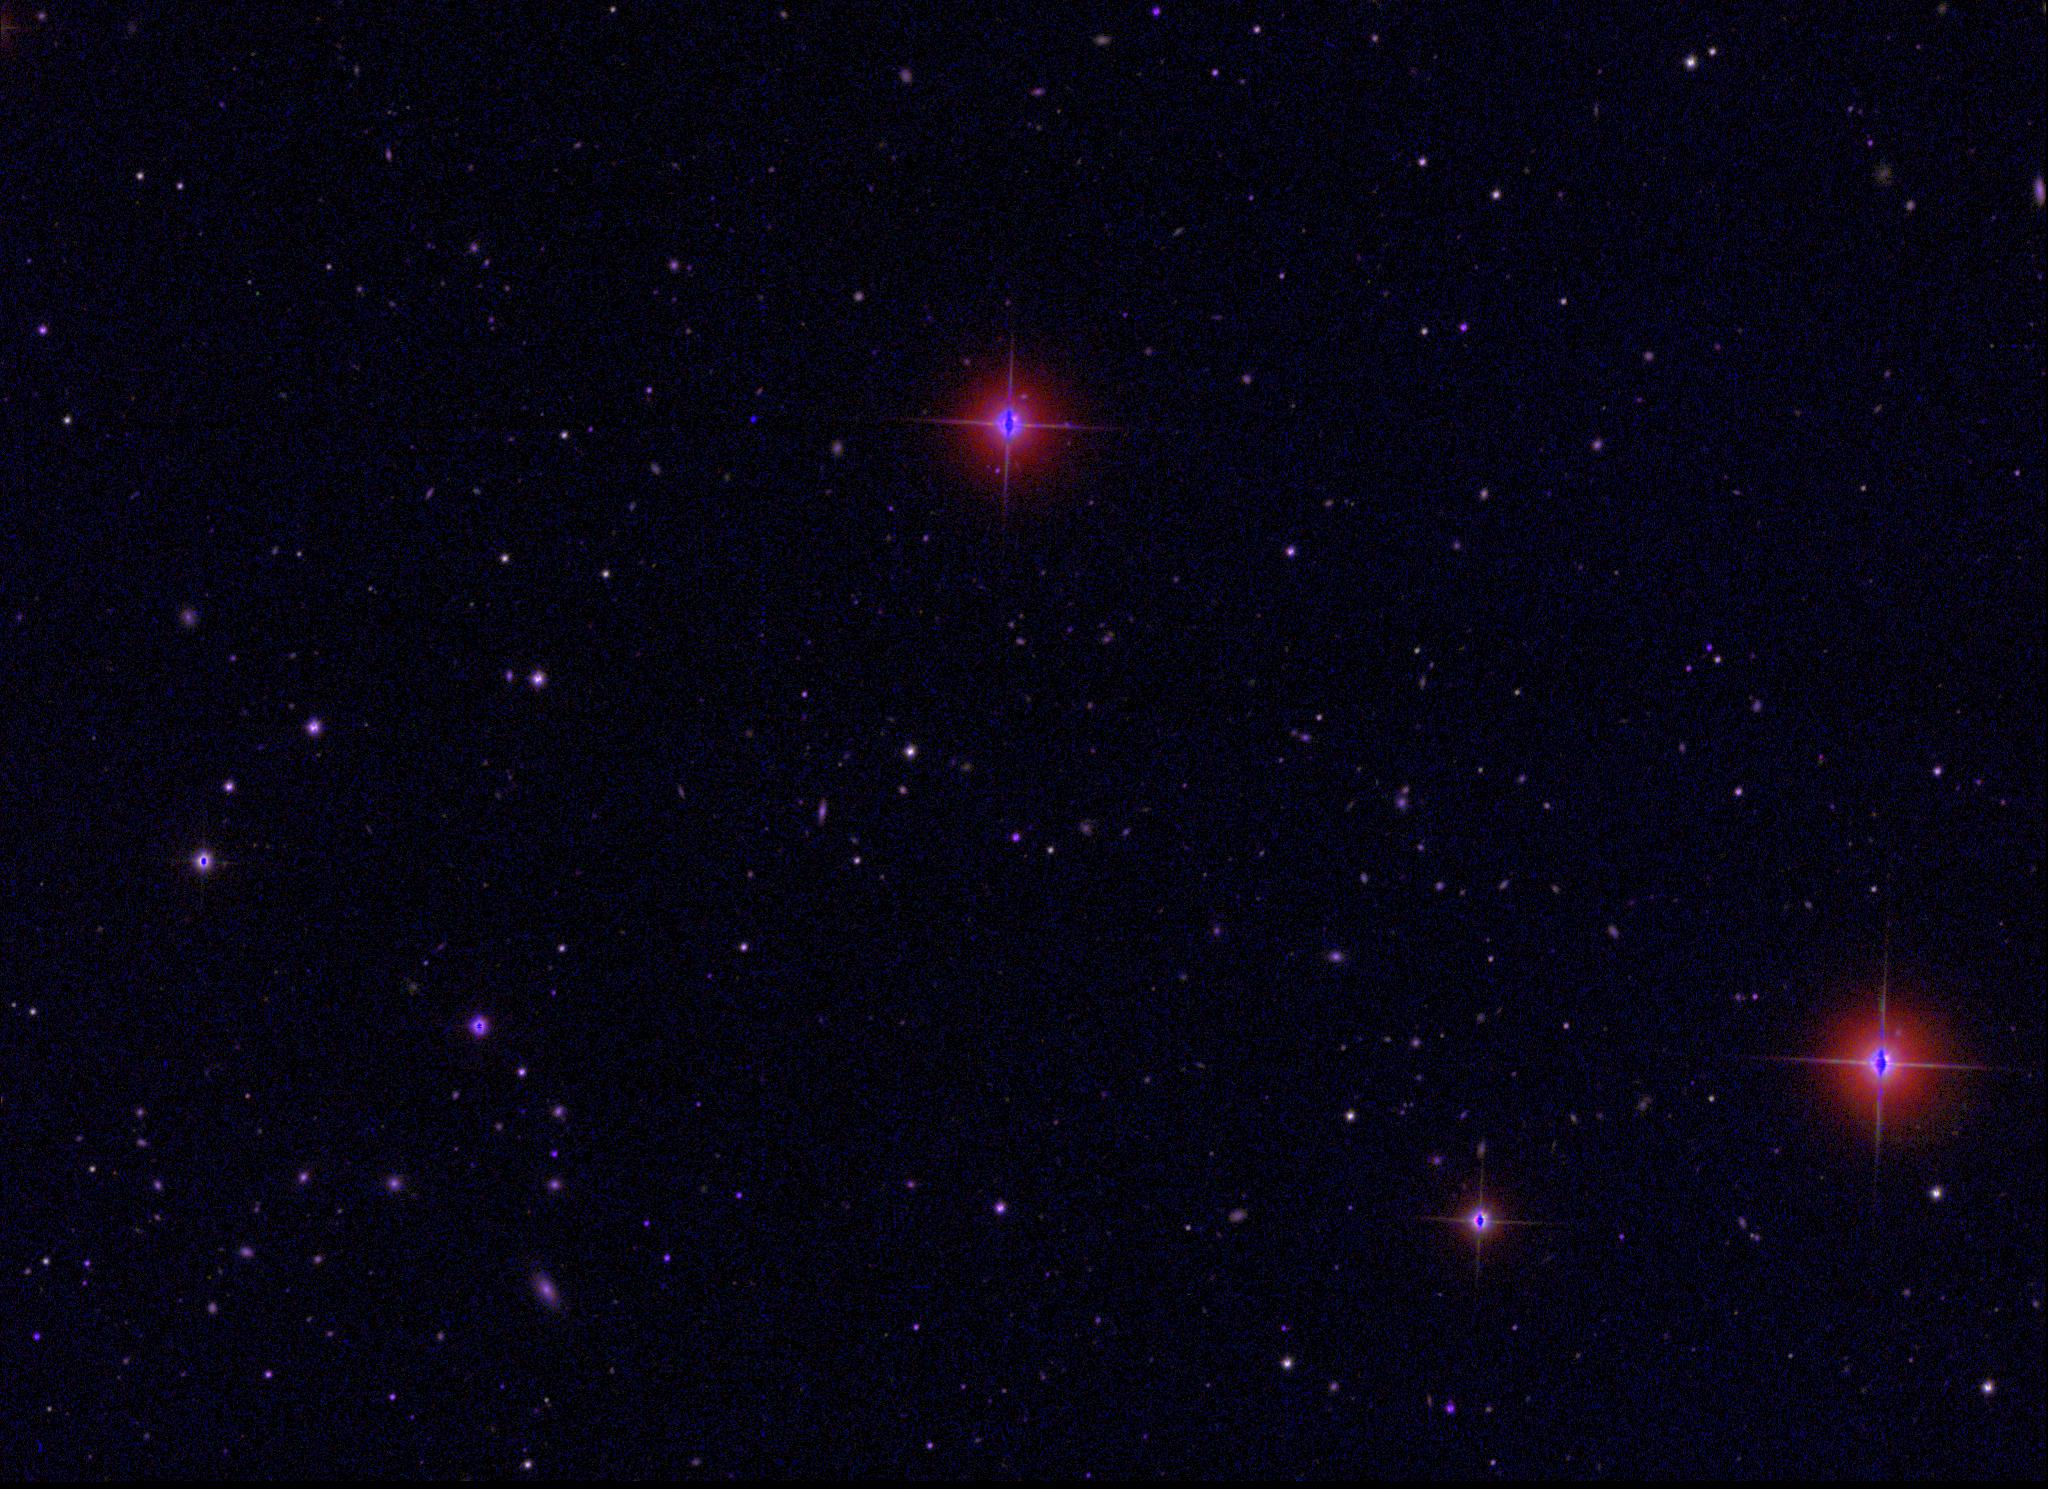L: (746, 409, 760, 423)
